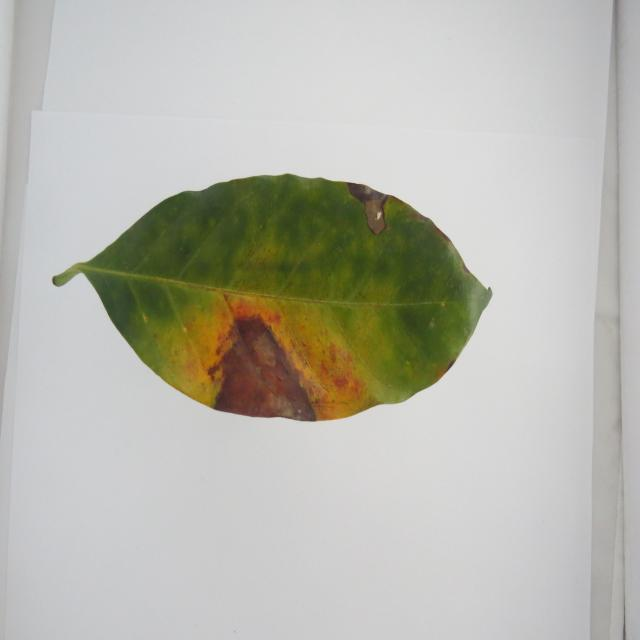DeficienciaNutricional-Fosforo: (52, 173, 491, 422)
